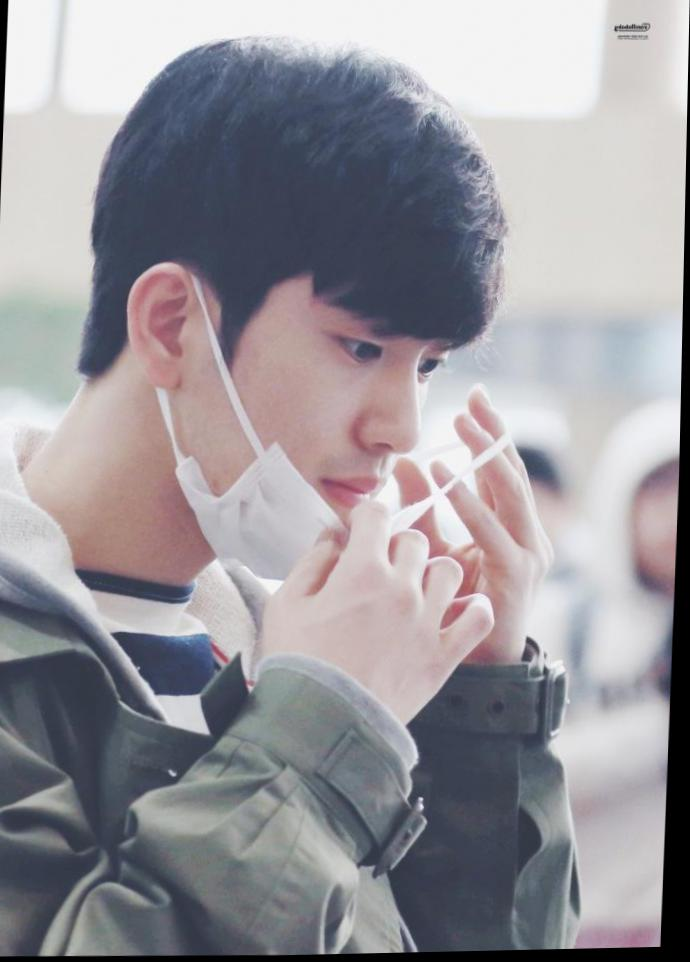WRONG: (189, 267, 454, 589)
